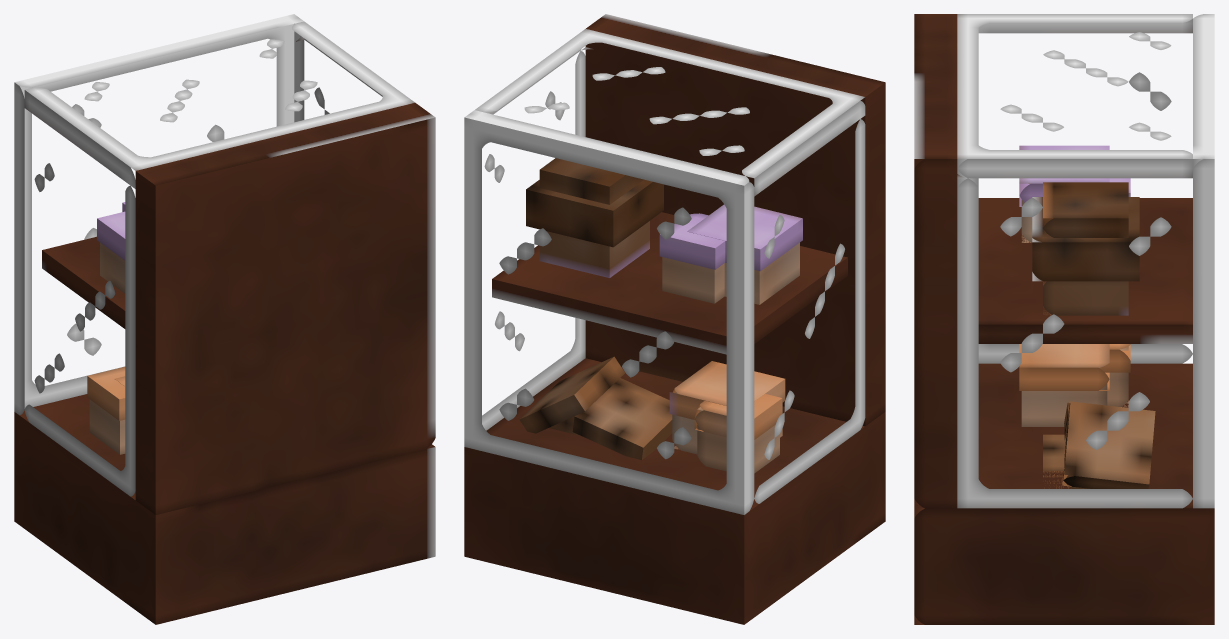
The model's file is rack.fbx.
The picture shows the model from 3 angles, left to right: view 1: azimuth 30°, elevation 25°; view 2: azimuth 150°, elevation 25°; view 3: azimuth 270°, elevation 25°; orthographic projection. The views are drawn at different scales.
Visible parts, largest first — view 1: cube_1, cube, cube_6, cube_5, cube_3, cube_4, cube_17, cube_20, cube_15, cube_13; view 2: cube, cube_1, cube_6, cube_4, cube_5, cube_3, cube_8, cube_11, cube_2, cube_12, cube_7, cube_18 (+8 smaller); view 3: cube, cube_1, cube_4, cube_5, cube_2, cube_6, cube_12, cube_8, cube_9, cube_18, cube_7, cube_3 (+5 smaller).
Boxes of the visible parts, box(x1,y1,x2,y2) form: cube_1: box(135, 102, 435, 514); cube: box(14, 394, 435, 624); cube_6: box(14, 14, 304, 415); cube_5: box(24, 21, 414, 188); cube_3: box(24, 163, 135, 496); cube_4: box(42, 236, 125, 328); cube_17: box(87, 366, 125, 420); cube_20: box(89, 399, 125, 454); cube_15: box(97, 211, 125, 260); cube_13: box(100, 242, 125, 293); cube: box(464, 358, 885, 624); cube_1: box(585, 14, 885, 426); cube_6: box(464, 110, 754, 514); cube_4: box(492, 212, 847, 354); cube_5: box(475, 29, 865, 196); cube_3: box(754, 119, 865, 503); cube_8: box(526, 179, 663, 247); cube_11: box(572, 378, 672, 460); cube_2: box(482, 51, 585, 430); cube_12: box(519, 356, 624, 433); cube_7: box(539, 221, 649, 277); cube_18: box(669, 361, 785, 419); cube: box(914, 363, 1214, 624); cube_1: box(914, 14, 957, 508); cube_4: box(978, 198, 1192, 343); cube_5: box(957, 14, 1192, 178); cube_2: box(957, 178, 1192, 508); cube_6: box(1193, 14, 1214, 508); cube_12: box(1062, 401, 1155, 488); cube_8: box(1032, 197, 1139, 281); cube_9: box(1043, 182, 1128, 237); cube_18: box(1019, 344, 1109, 390); cube_7: box(1043, 281, 1128, 315); cube_3: box(957, 72, 1192, 363).
Size of the model in its own units: 100 by 150 by 87.5.
